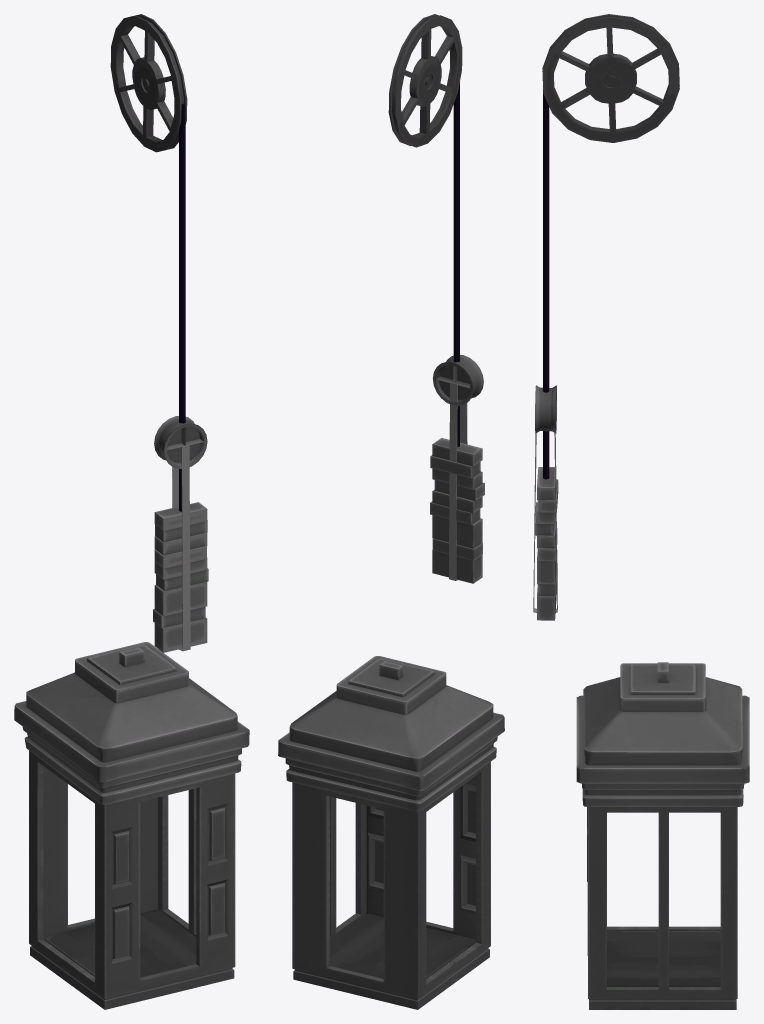
File: Elevator.fbx
The picture shows the model from 3 angles, left to right: view 1: azimuth 30°, elevation 25°; view 2: azimuth 150°, elevation 25°; view 3: azimuth 270°, elevation 25°; orthographic projection. The views are drawn at different scales.
Parts seen in each view (by area): view 1: elevatorCompartmentBase, elevatorCompartmentTop, elevatorWeights, elevatorWheel, Cylinder, elevatorPart38, elevatorPulley; view 2: elevatorCompartmentBase, elevatorCompartmentTop, elevatorWeights, elevatorWheel, Cylinder, elevatorPulley, elevatorPart38; view 3: elevatorCompartmentTop, elevatorCompartmentBase, elevatorWheel, elevatorWeights, Cylinder, elevatorPulley, elevatorPart38.
Boxes of the visible parts, x1,y1,x2,y2 form: elevatorCompartmentBase: (29, 750, 235, 1009); elevatorCompartmentTop: (14, 642, 249, 804); elevatorWeights: (153, 502, 208, 652); elevatorWheel: (110, 14, 187, 152); Cylinder: (179, 103, 185, 511); elevatorPart38: (172, 445, 190, 651); elevatorPulley: (154, 416, 207, 469); elevatorCompartmentBase: (292, 761, 490, 1009); elevatorCompartmentTop: (278, 656, 504, 811); elevatorWeights: (430, 438, 484, 583); elevatorWheel: (388, 14, 462, 147); Cylinder: (453, 82, 459, 446); elevatorPulley: (432, 355, 483, 405); elevatorPart38: (449, 383, 467, 580); elevatorCompartmentTop: (576, 662, 749, 806); elevatorCompartmentBase: (587, 807, 737, 1009); elevatorWheel: (542, 14, 679, 142); elevatorWeights: (534, 467, 558, 620); Cylinder: (543, 90, 549, 479); elevatorPulley: (535, 385, 556, 433); elevatorPart38: (533, 433, 557, 612).
Bounding box in the file's own units: 6.58 × 40.2 × 8.22.
